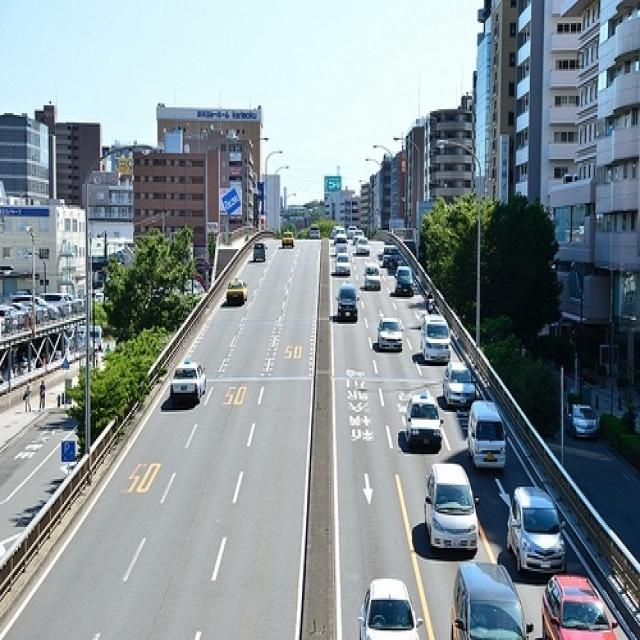Carro Branco: (420, 454, 486, 557), (366, 571, 419, 640), (464, 398, 508, 472), (419, 318, 452, 370), (173, 359, 205, 407)
Carro Cinza: (448, 550, 532, 640), (253, 238, 268, 261)
Carro Prata: (504, 480, 567, 584), (401, 391, 445, 450), (441, 354, 476, 404), (378, 312, 408, 358), (564, 404, 603, 439)
Carro Preto: (336, 283, 358, 329)
Carro Vermelho: (540, 569, 624, 640)
Taxi: (225, 276, 252, 306), (282, 230, 295, 251)
